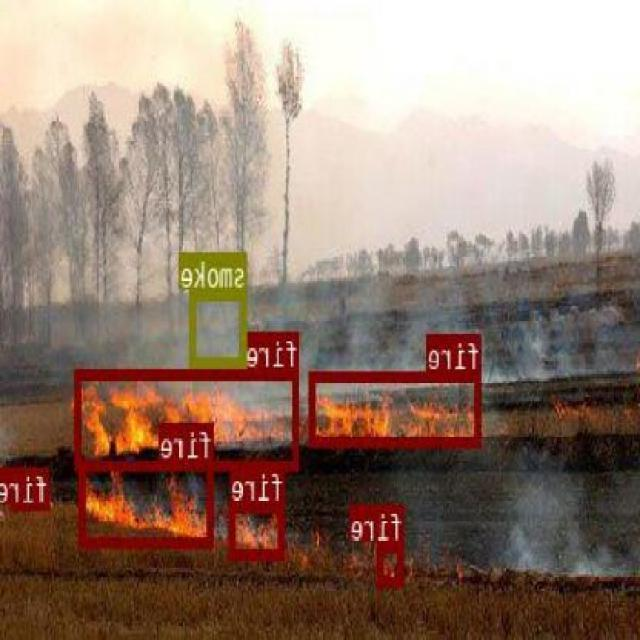Fire: (76, 366, 302, 468), (310, 370, 482, 444), (80, 458, 216, 546), (230, 500, 286, 557), (12, 464, 50, 510), (380, 542, 406, 584)
Smoke: (192, 288, 248, 366)
